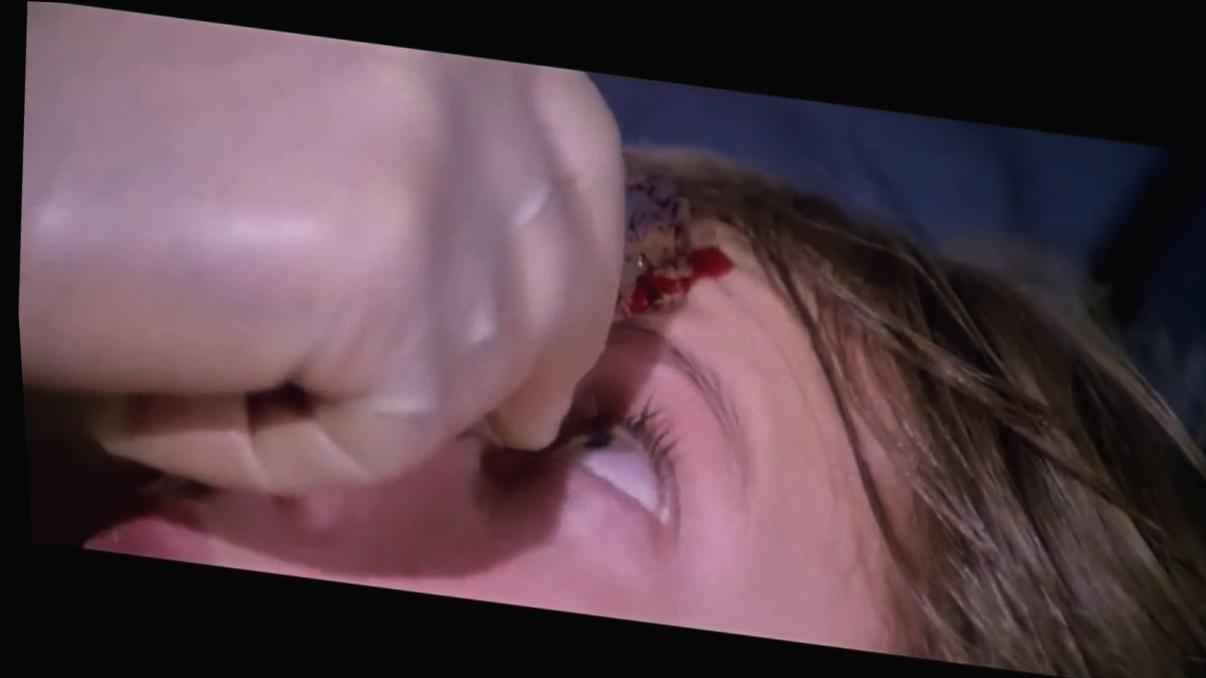Fire: (612, 165, 731, 308)
